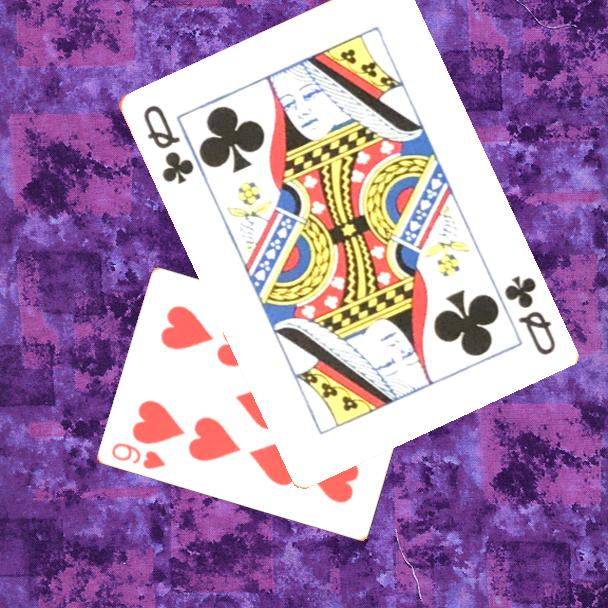c12: (500, 271, 558, 358), (139, 101, 197, 187)
h09: (108, 439, 169, 472)
